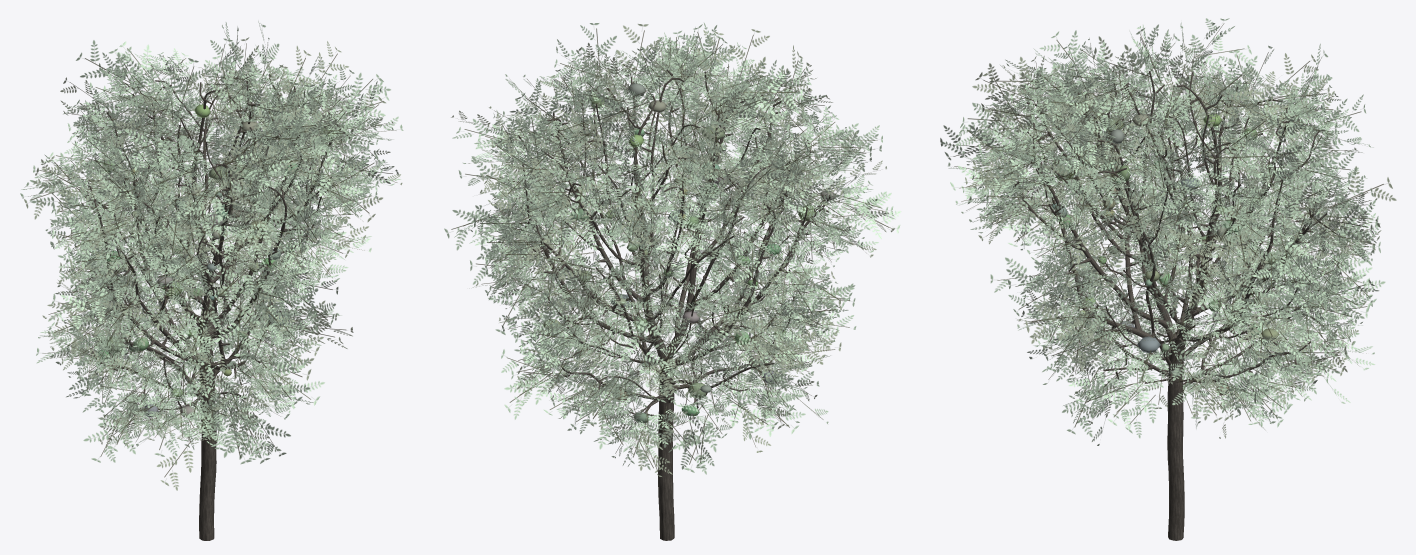
File: tree_28_broadleaf.glb
3 renders of one model, left to right at view 1: azimuth 30°, elevation 25°; view 2: azimuth 150°, elevation 25°; view 3: azimuth 270°, elevation 25°, orthographic. The views are drawn at different scales.
Parts seen in each view (by area): view 1: tree_28_broadleaf.leaves, tree_28_broadleaf.trunk_branches, tree_28_broadleaf.foliage_volume; view 2: tree_28_broadleaf.leaves, tree_28_broadleaf.trunk_branches, tree_28_broadleaf.foliage_volume; view 3: tree_28_broadleaf.leaves, tree_28_broadleaf.trunk_branches, tree_28_broadleaf.foliage_volume.
Part boxes in pixels (x1,y1,x2,y2): tree_28_broadleaf.leaves: (20,21,403,490); tree_28_broadleaf.trunk_branches: (85,74,351,540); tree_28_broadleaf.foliage_volume: (94,104,334,417); tree_28_broadleaf.leaves: (444,23,900,476); tree_28_broadleaf.trunk_branches: (518,69,830,540); tree_28_broadleaf.foliage_volume: (536,83,835,423); tree_28_broadleaf.leaves: (940,18,1396,445); tree_28_broadleaf.trunk_branches: (1010,71,1327,540); tree_28_broadleaf.foliage_volume: (1031,113,1300,395).
Bounding box in the file's own units: 9.2 × 12 × 9.87.
3 materials, 2 textured.
